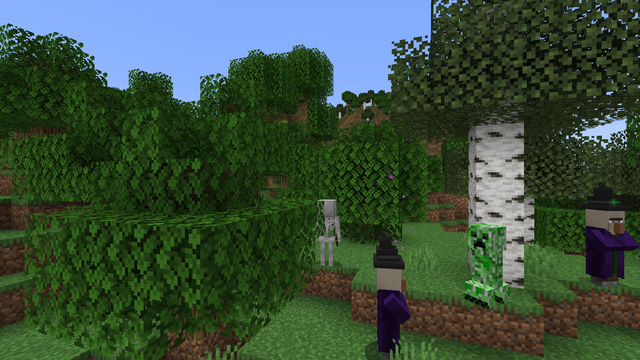creepers: (468, 219, 507, 308)
sorcieres: (581, 205, 629, 290), (371, 255, 403, 359)
squelettes: (316, 199, 338, 269)
